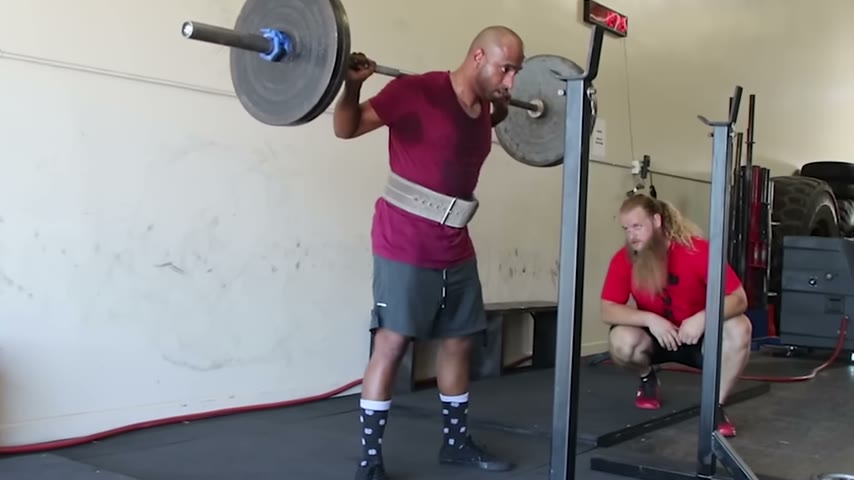barbell_plate_side: (179, 0, 305, 141), (501, 18, 586, 173)
